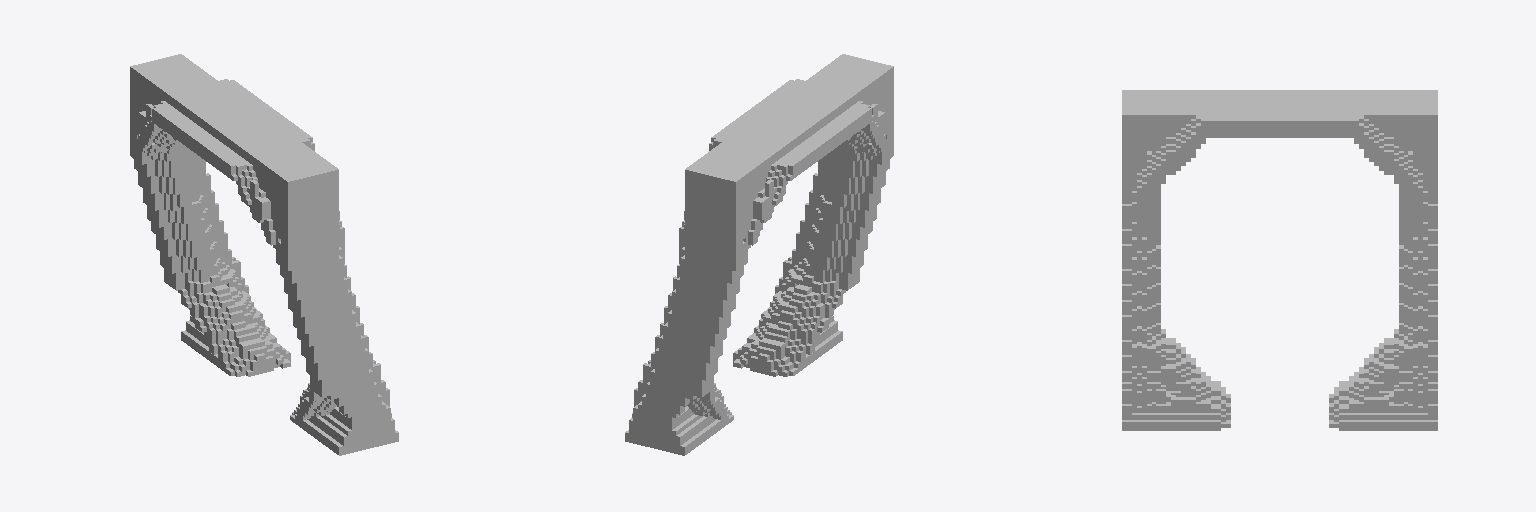
The model's file is puerta de carga-1.obj.
3 views of the same model, side by side, from view 1: azimuth 30°, elevation 25°; view 2: azimuth 150°, elevation 25°; view 3: azimuth 270°, elevation 25° (orthographic).
Parts seen in each view (by area): view 1: object 1; view 2: object 1; view 3: object 1.
Part boxes in pixels (left/top/right/bottom): object 1: left=130, top=54, right=398, bottom=455; object 1: left=625, top=54, right=893, bottom=455; object 1: left=1122, top=90, right=1437, bottom=430.
Bounding box in the file's own units: 3 × 6.4 × 6.4.